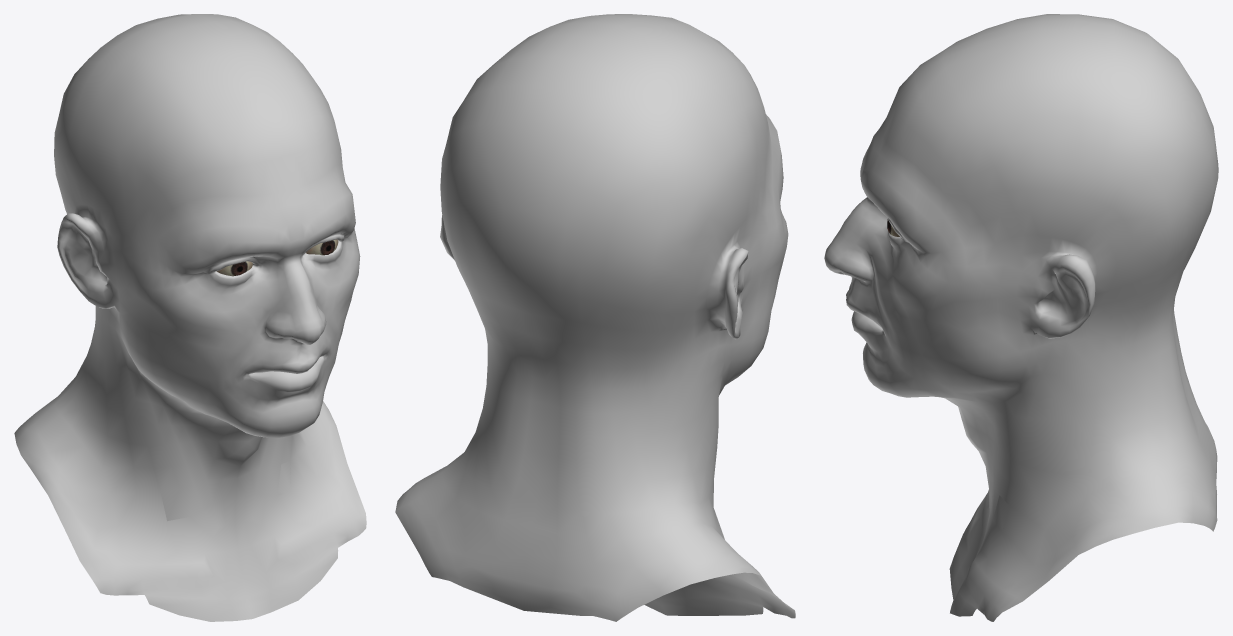
The model's file is head_caucasian03.fbx.
3 renders of one model, left to right at view 1: azimuth 30°, elevation 25°; view 2: azimuth 150°, elevation 25°; view 3: azimuth 270°, elevation 25°, orthographic. The views are drawn at different scales.
Visible parts, largest first — view 1: head_caucasian03; view 2: head_caucasian03; view 3: head_caucasian03.
Boxes of the visible parts, x1,y1,x2,y2 form: head_caucasian03: (14, 14, 366, 621); head_caucasian03: (395, 14, 795, 621); head_caucasian03: (824, 14, 1218, 621).
Size of the model in its own units: 19.57 by 35.35 by 22.14.
